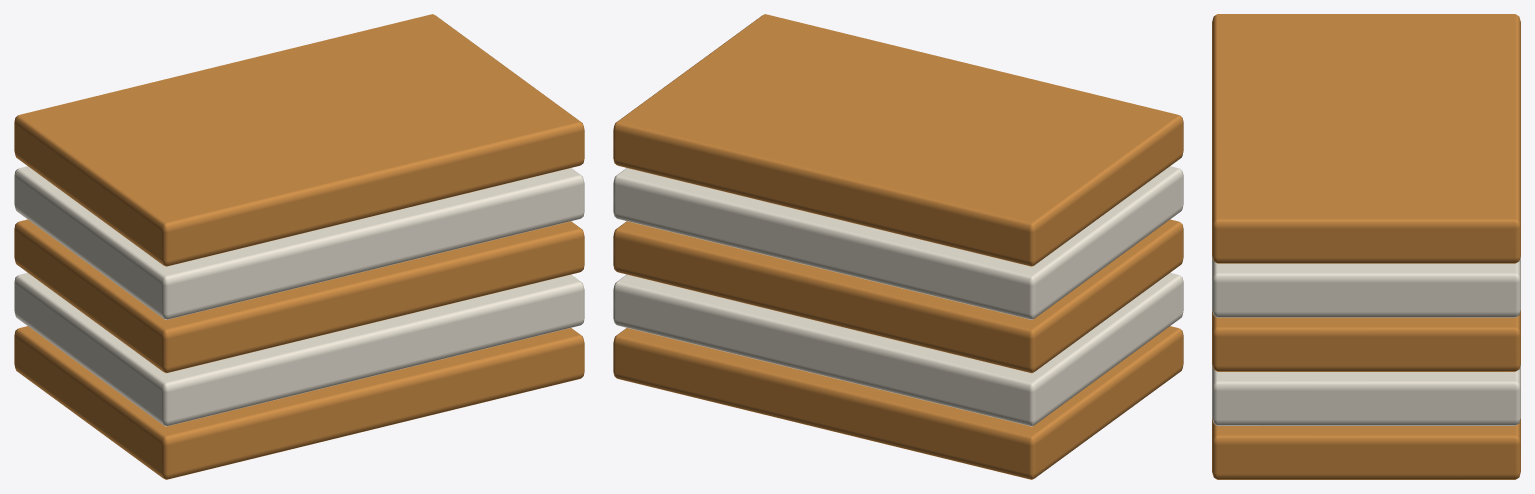
The model's file is wp-millefeuille.glb.
The picture shows the model from 3 angles, left to right: view 1: azimuth 30°, elevation 25°; view 2: azimuth 150°, elevation 25°; view 3: azimuth 270°, elevation 25°; orthographic projection.
Visible parts, largest first — view 1: wp-millefeuille; view 2: wp-millefeuille; view 3: wp-millefeuille.
Boxes of the visible parts, x1=… form: wp-millefeuille: x1=14, y1=14, x2=584, y2=479; wp-millefeuille: x1=613, y1=14, x2=1183, y2=479; wp-millefeuille: x1=1212, y1=14, x2=1520, y2=479.
Size of the model in its own units: 0.12 by 0.07 by 0.075.
